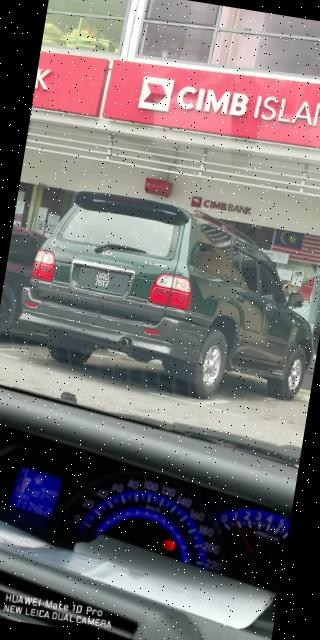License_Plate: (77, 266, 132, 297)
car: (15, 181, 320, 418)
